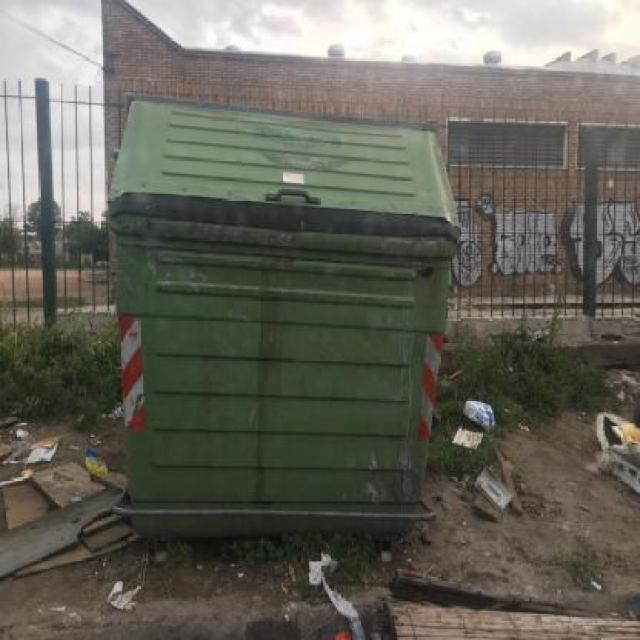garbage: (121, 539, 444, 623), (0, 413, 132, 575), (439, 376, 542, 552), (595, 375, 634, 530)
